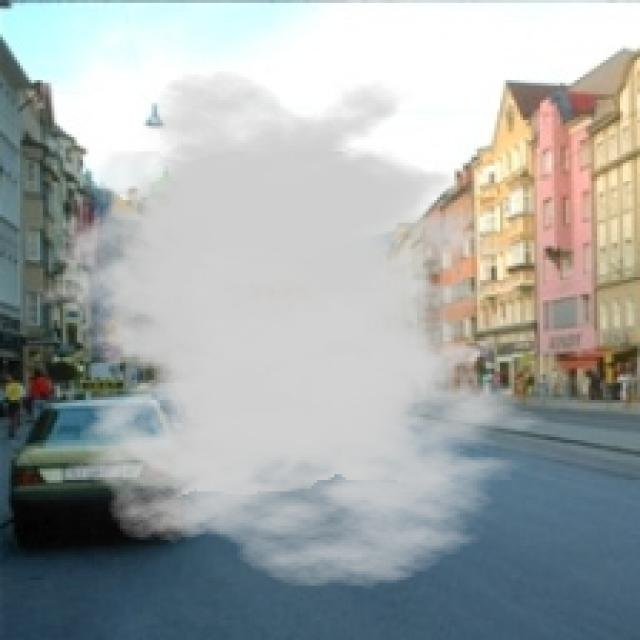smoke: (26, 69, 571, 588)
